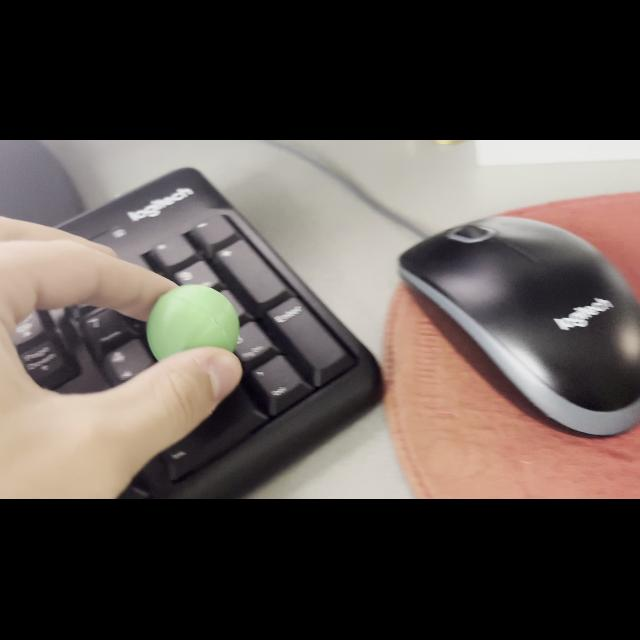objects: (144, 281, 242, 357)
